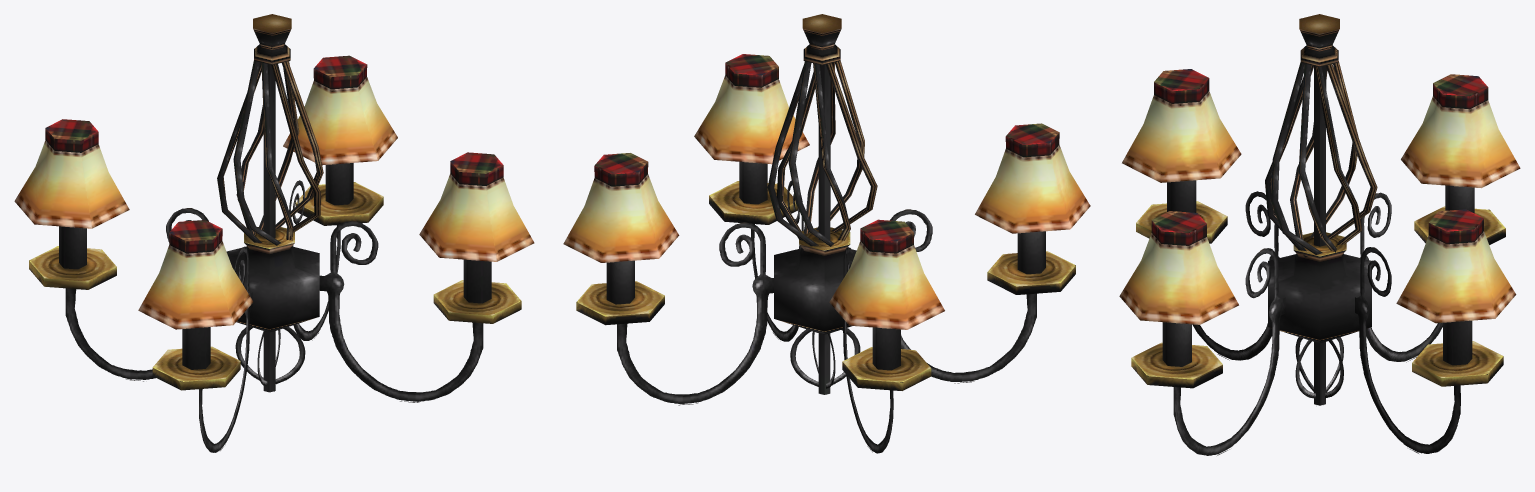
The model's file is furni_0200301.FBX.
The picture shows the model from 3 angles, left to right: view 1: azimuth 30°, elevation 25°; view 2: azimuth 150°, elevation 25°; view 3: azimuth 270°, elevation 25°; orthographic projection. The views are drawn at different scales.
Visible parts, largest first — view 1: furni_0200301; view 2: furni_0200301; view 3: furni_0200301.
Part boxes in pixels (x1,y1,x2,y2): furni_0200301: (14,14,534,452); furni_0200301: (563,14,1090,453); furni_0200301: (1119,14,1520,455).
Bounding box in the file's own units: 86.17 × 80.62 × 76.73.
Materials: 1 (1 with a texture image).
